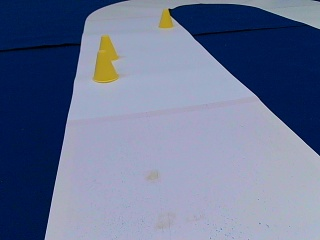cone: (91, 39, 118, 81), (98, 35, 117, 59), (159, 9, 172, 27)
